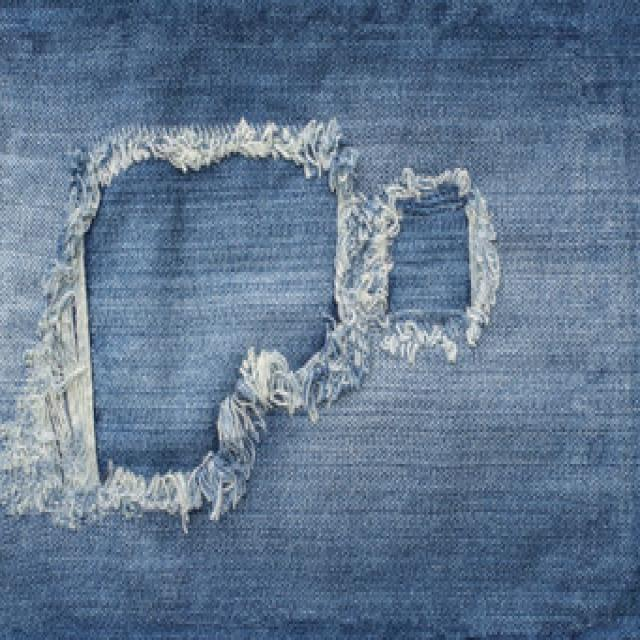Hole: (0, 119, 375, 530), (380, 169, 500, 363)
